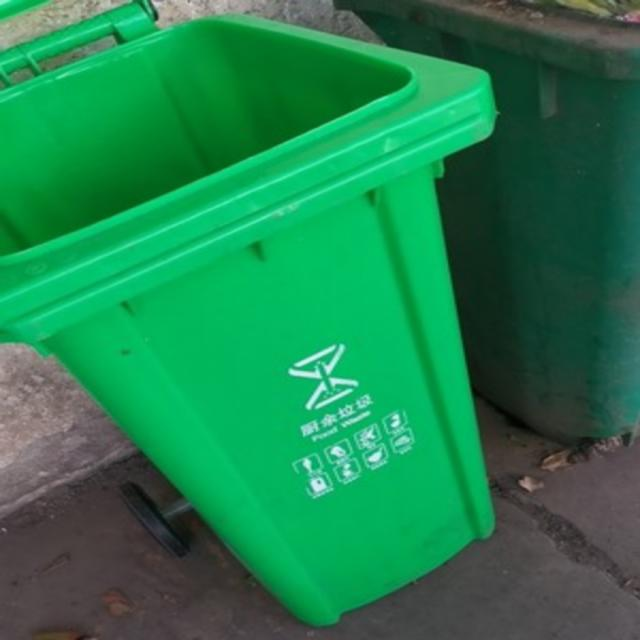ash bin: (0, 0, 499, 627), (324, 2, 638, 451)
